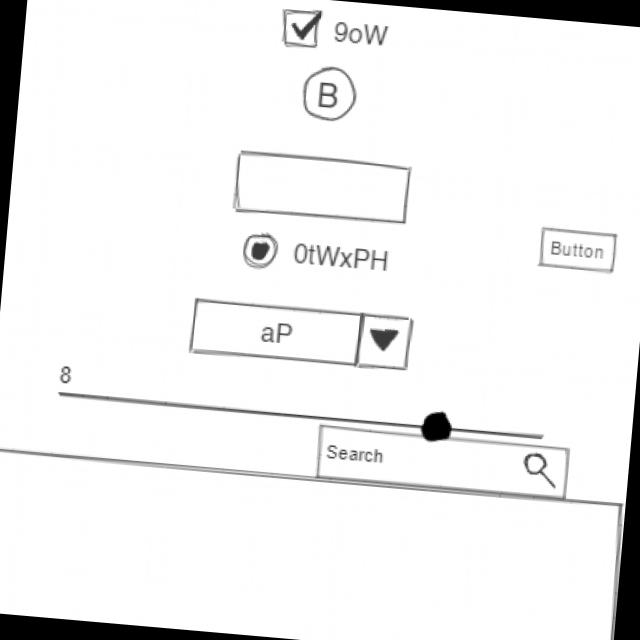button: (535, 224, 621, 276)
checkbox: (278, 5, 393, 61)
container: (1, 443, 626, 640)
icon-button: (299, 62, 361, 127)
input: (229, 145, 418, 229)
radio: (239, 229, 394, 282)
search: (314, 423, 574, 504)
select: (186, 294, 419, 377)
slider: (72, 376, 550, 455)
